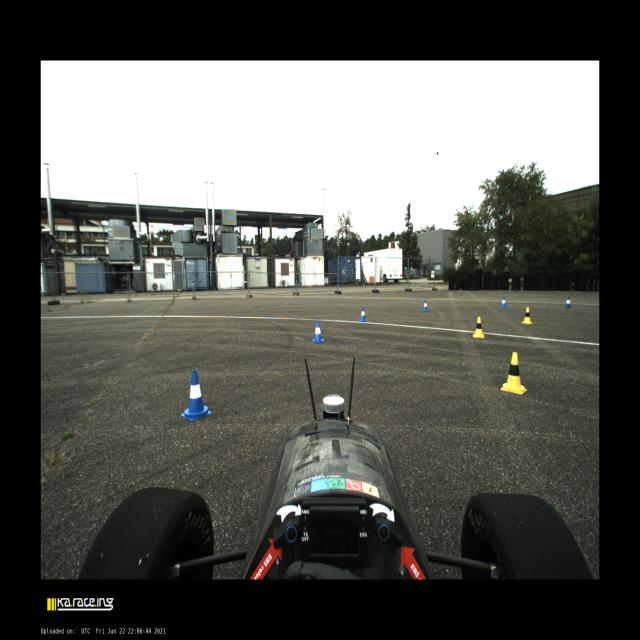blue_cone: (181, 370, 211, 421), (312, 321, 324, 343), (359, 307, 367, 323), (564, 296, 572, 308), (500, 297, 507, 308), (422, 300, 428, 311)
yellow_cone: (500, 352, 527, 394), (472, 317, 484, 338), (521, 307, 532, 324)
